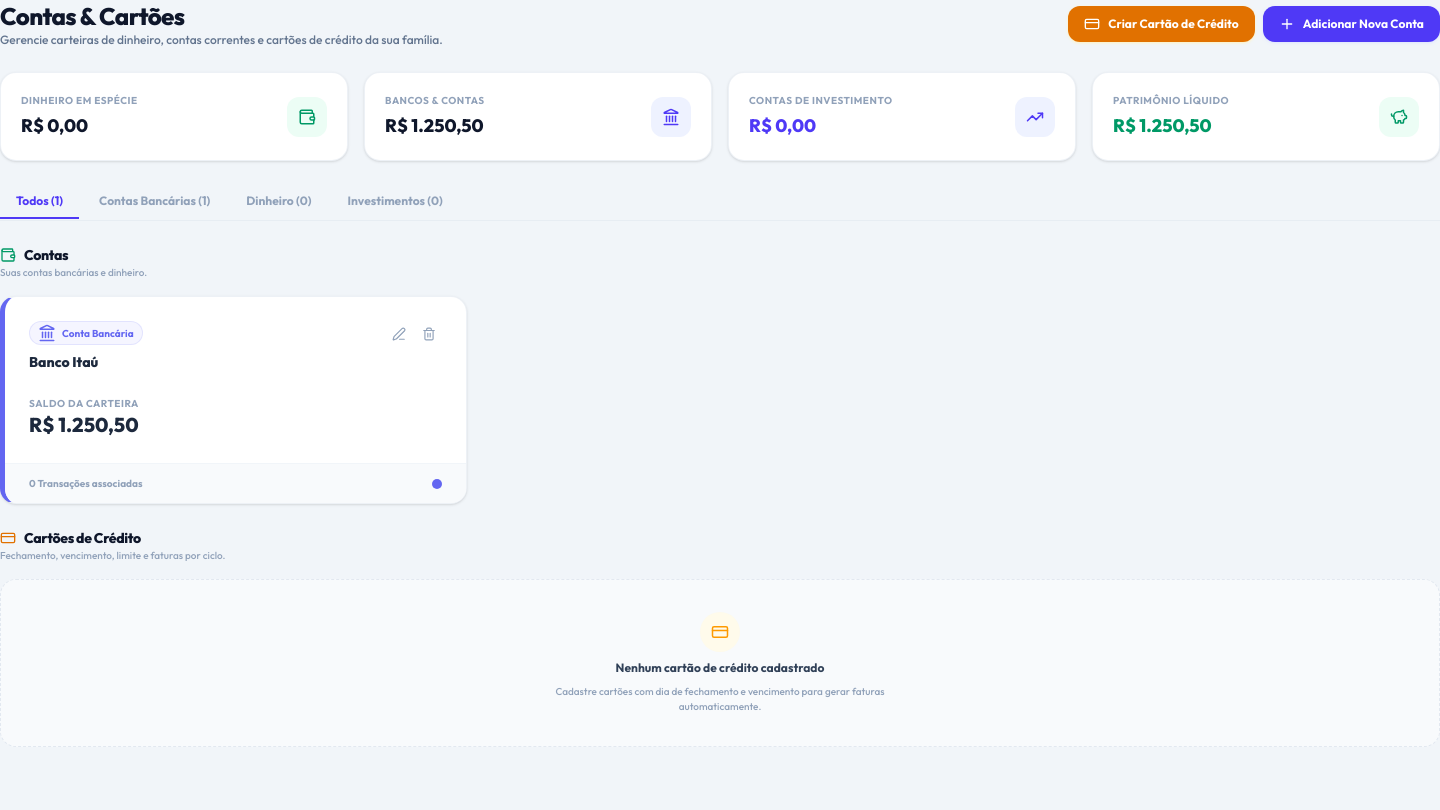
Test: AccountsAndCardsManager › abre formulário de novo cartão com campos de fatura
Click the button with id "btn-add-credit-card-top": {"x": 1162, "y": 24} [1068,6,1255,42]
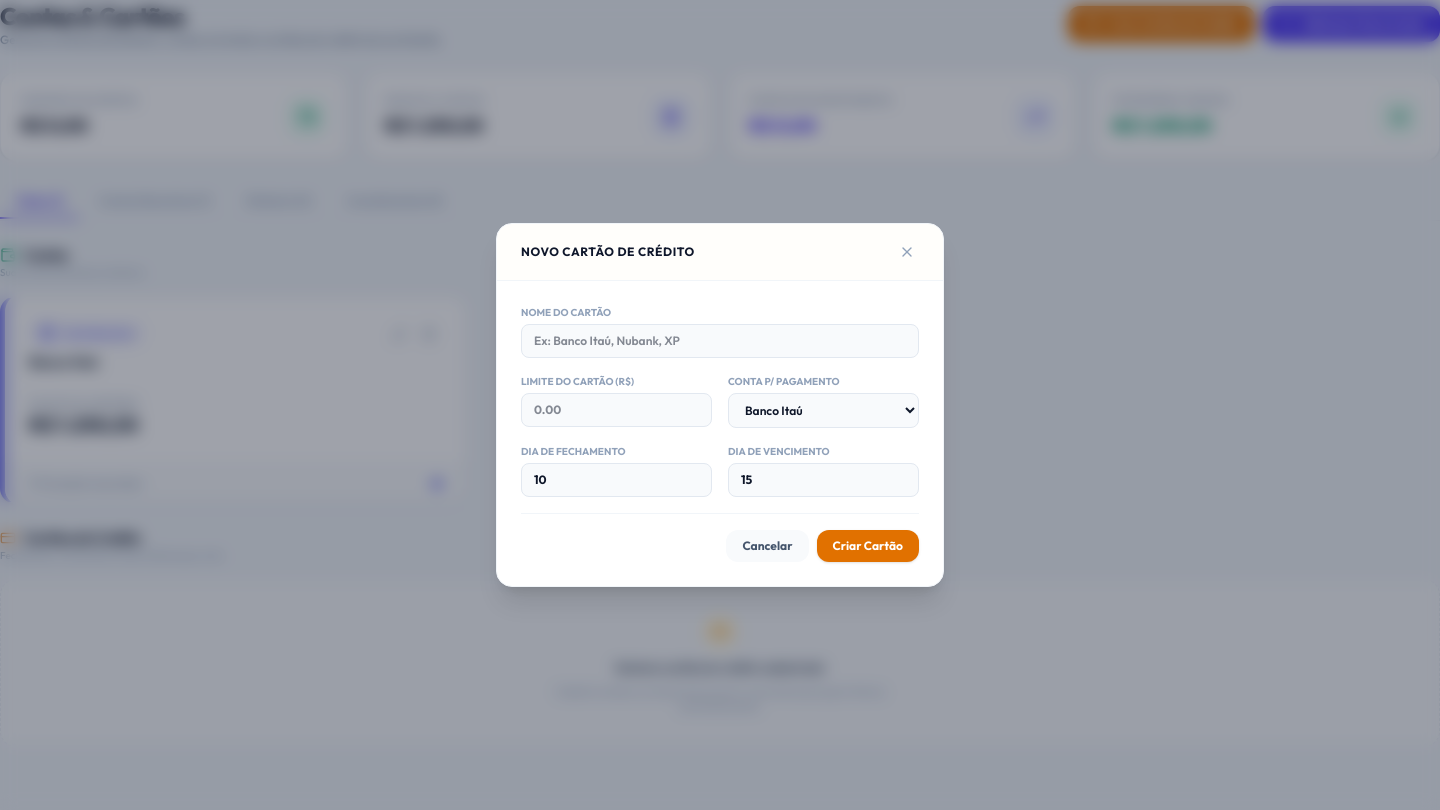
Expected: the text "Dia de Fechamento" is shown, [521,445,626,458]
Expected: the text "Dia de Vencimento" is shown, [728,445,830,458]
Expected: the text "Limite do Cartão (R$)" is shown, [521,375,634,388]
